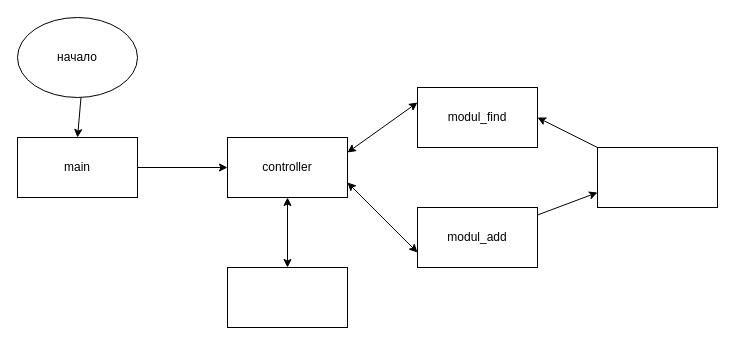
Some shapes in this 735 by 345 pixel diagram are drawn without their labels. The box of each missing label's shape, as (x1, y1, x2, y2) in pixels:
data_base: (596, 146, 718, 208)
view: (226, 266, 348, 328)
